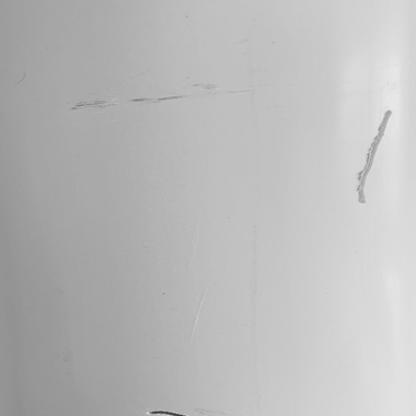fengxi: (147, 406, 203, 416)
sunshang: (356, 109, 391, 206), (66, 94, 233, 110)
